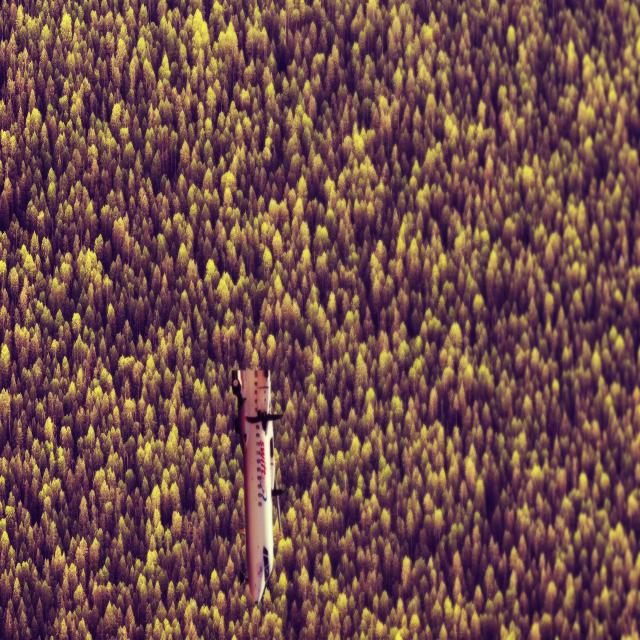airplane: (231, 367, 285, 605)
